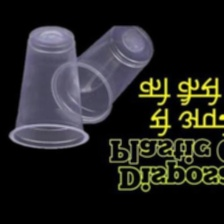glass: (3, 22, 95, 156), (48, 23, 156, 127)
